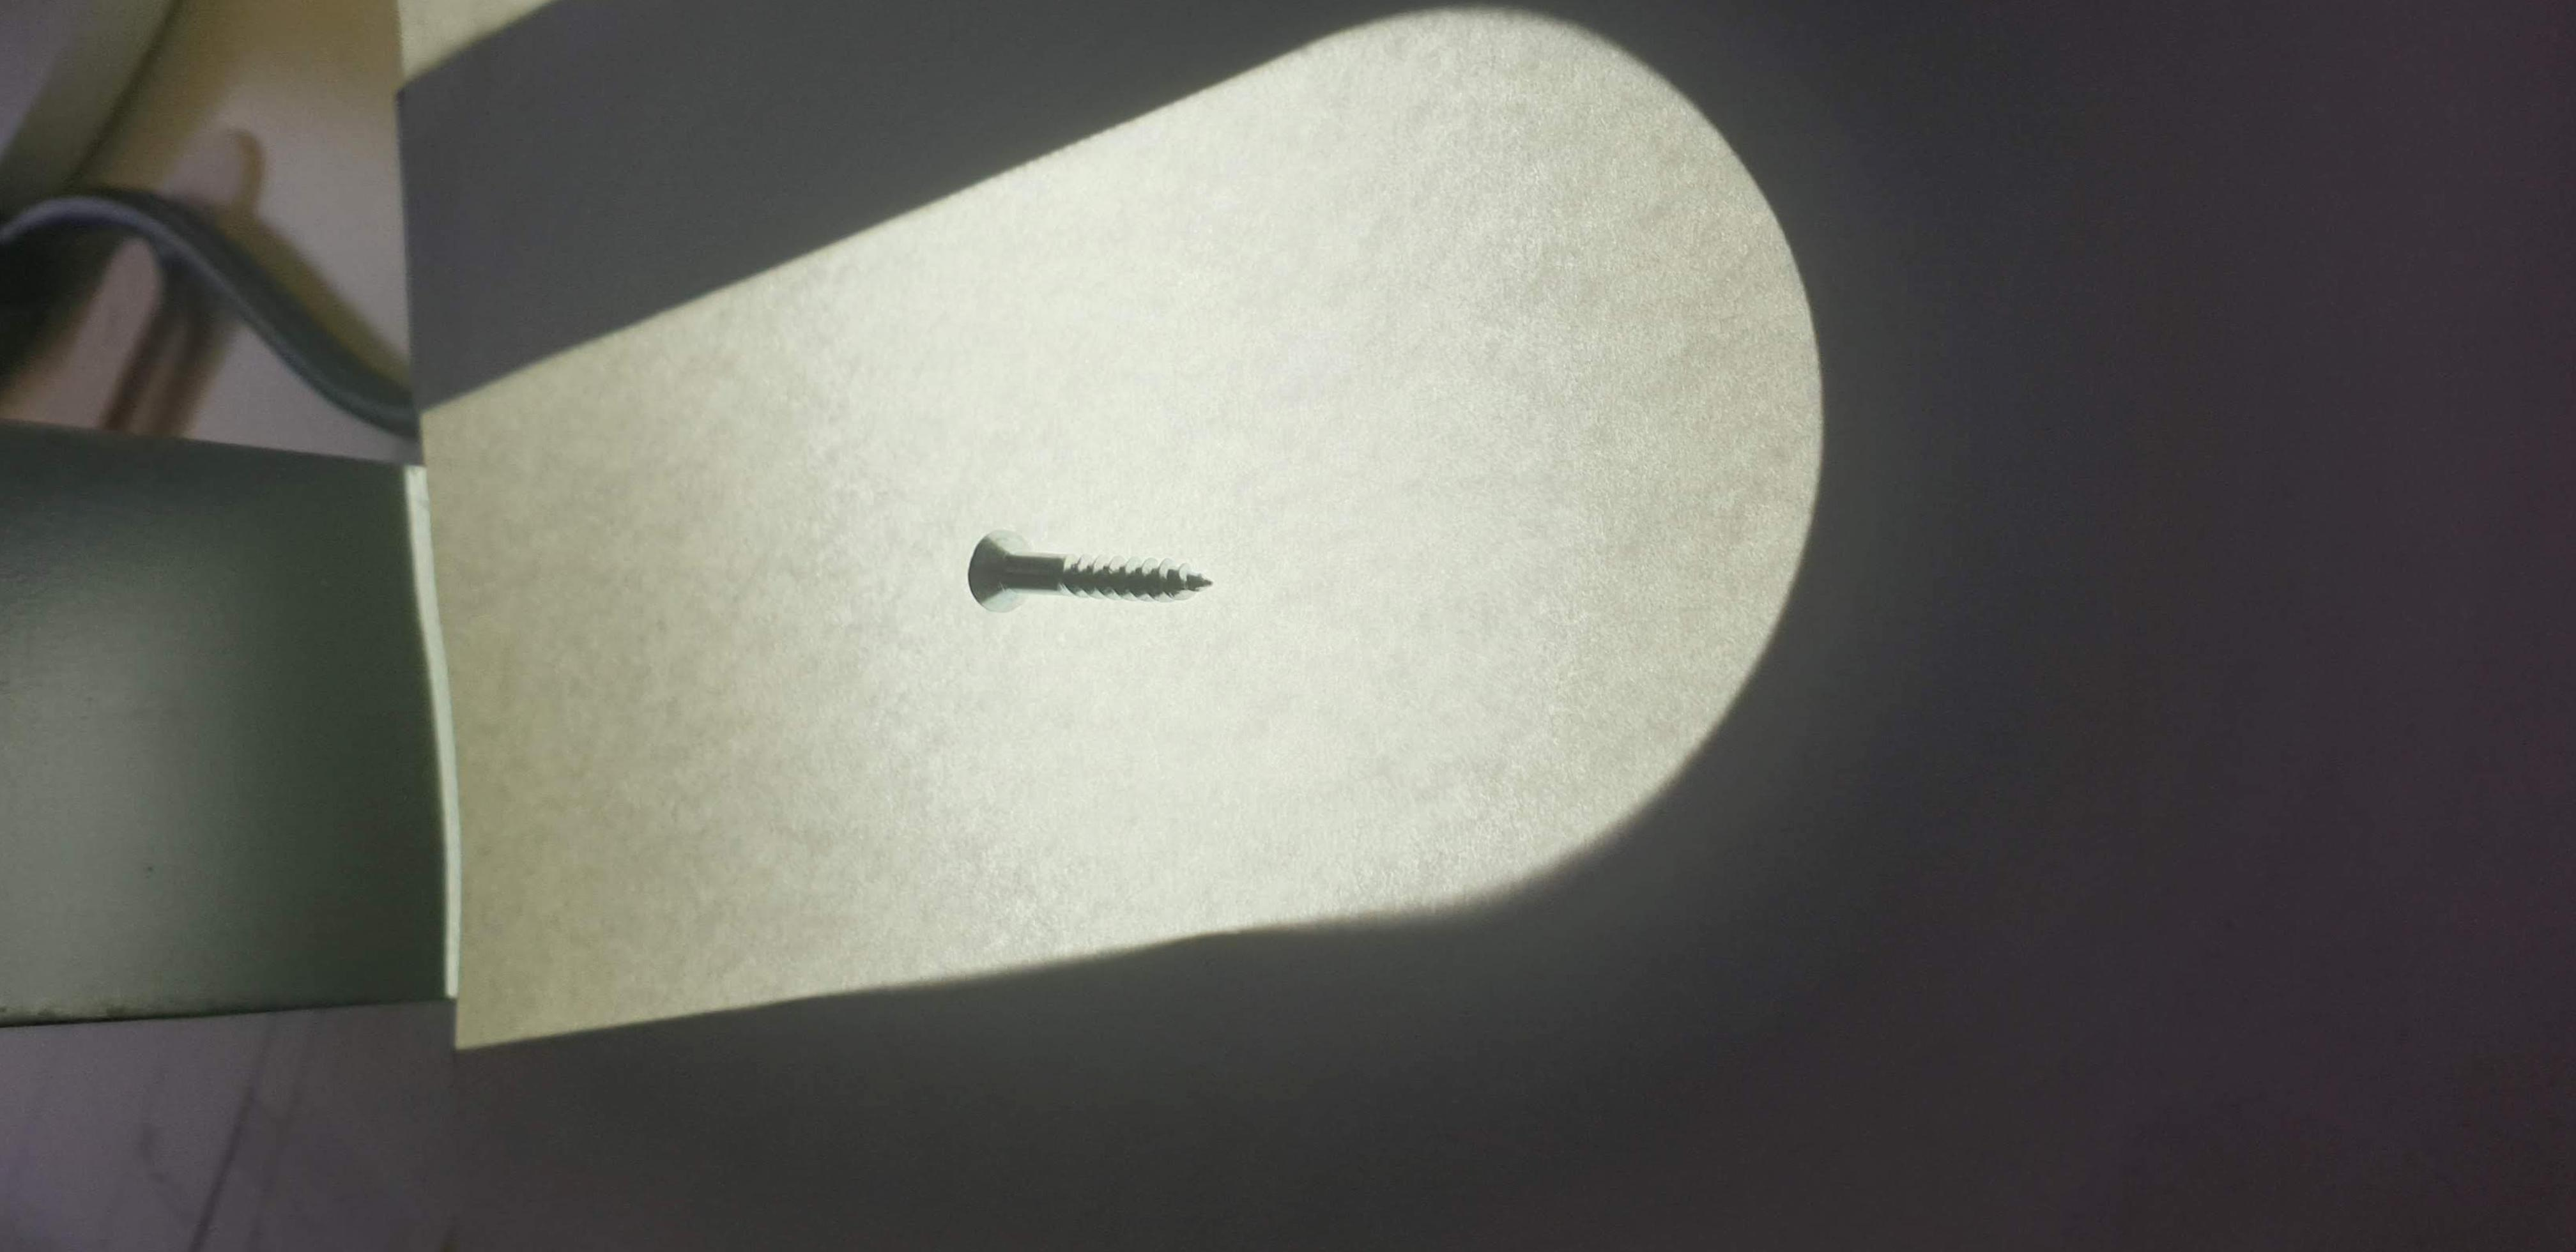S005: (890, 458, 1281, 665)
